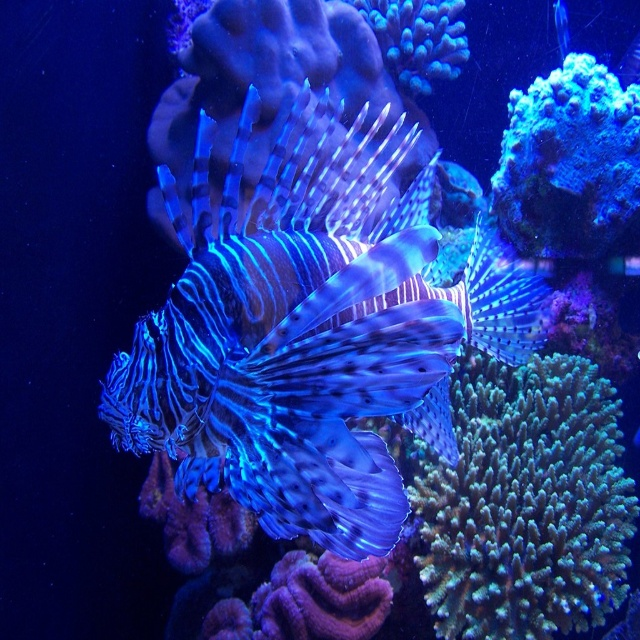Fish: (92, 78, 550, 563)
